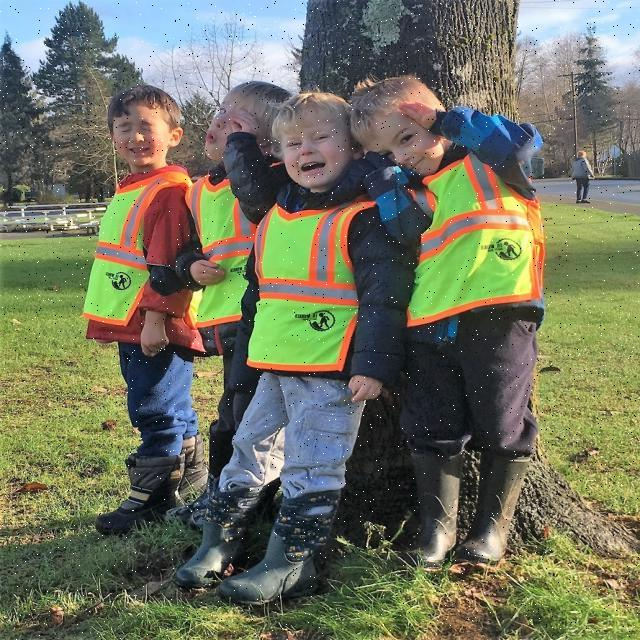Vest: (243, 199, 371, 372), (411, 155, 542, 322), (82, 173, 175, 329), (183, 178, 252, 333)
